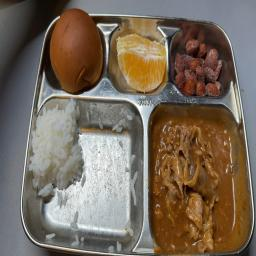100_bread: (48, 8, 104, 96)
100_nuts: (170, 23, 222, 97)
100_orange: (110, 19, 168, 91)
25_rice: (29, 95, 132, 245)
75_beef: (153, 113, 240, 250)
